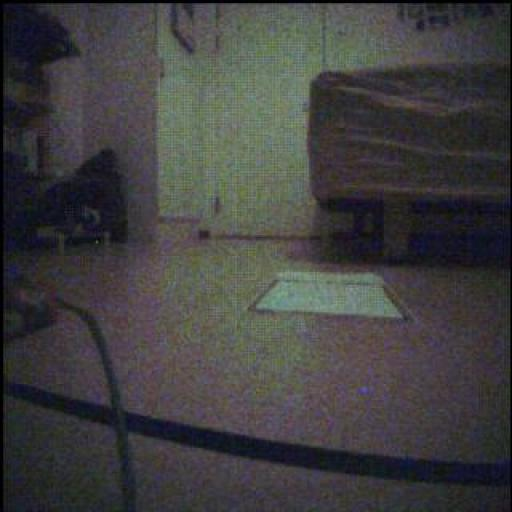pad: (255, 273, 406, 319)
